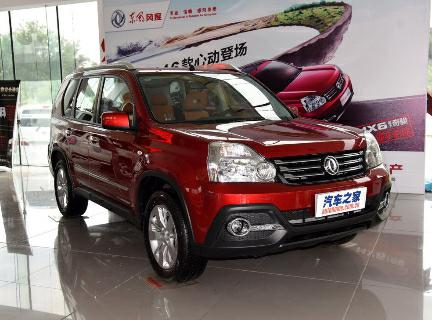东风风度-MX6: (41, 63, 399, 289)
